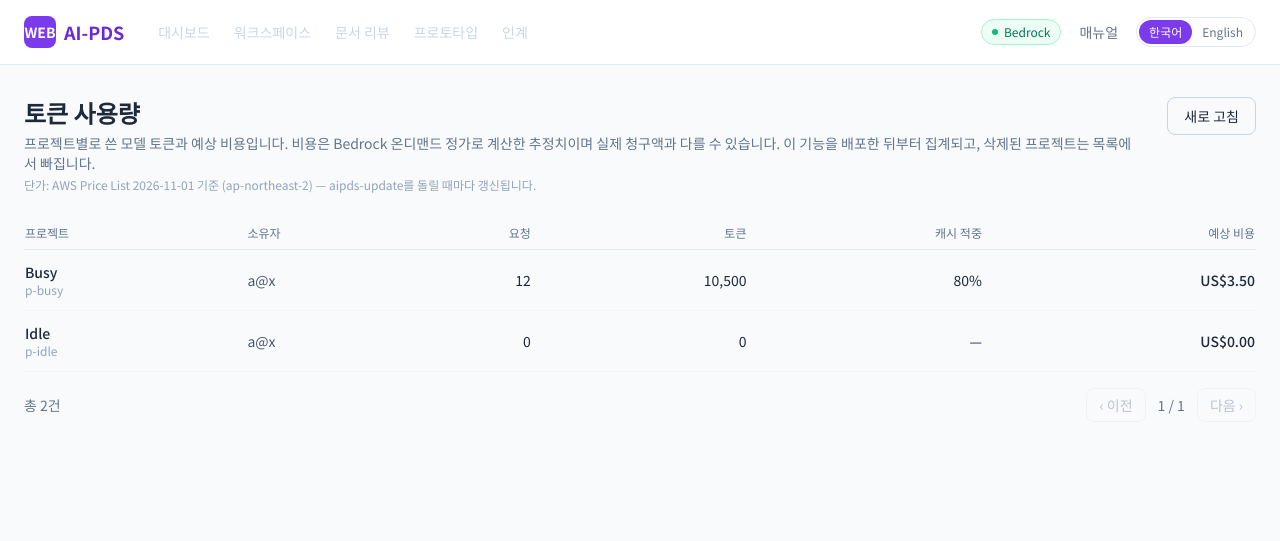
Test case: admin usage page › opens a project's breakdown by feature only
This screenshot has width=1280, height=541.
Click the text "Busy": (41, 272) [25,262,57,282]
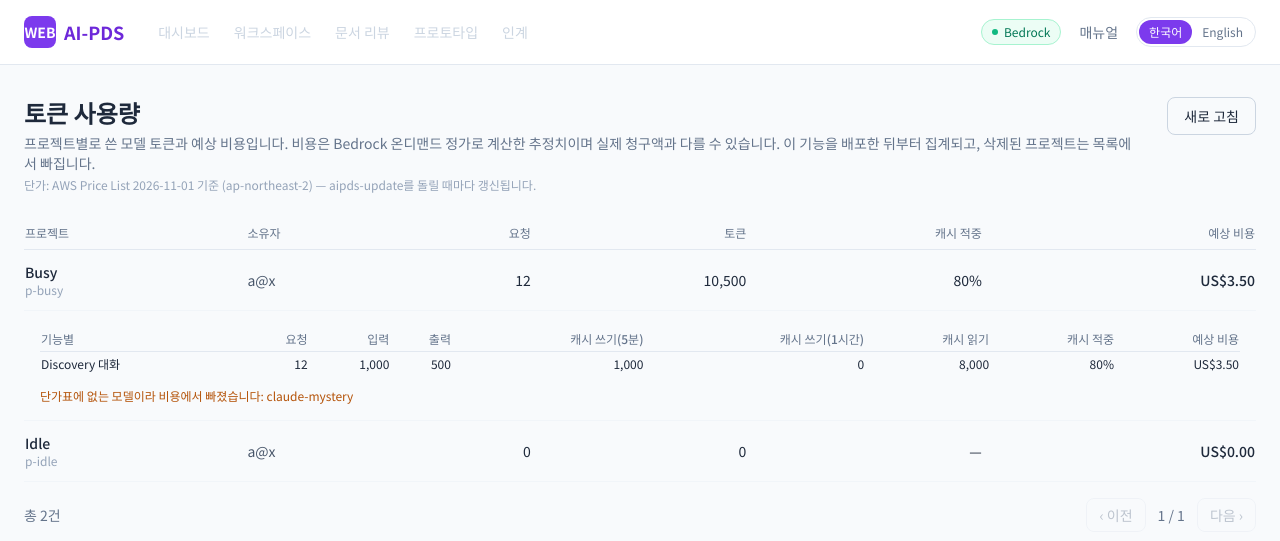
Expected: the text "Discovery 대화" is shown, [40,352,247,376]
Expected: the text "단가표에 없는 모델이라 비용에서 빠졌습니다: claude-mystery" is shown, [40,387,353,404]
